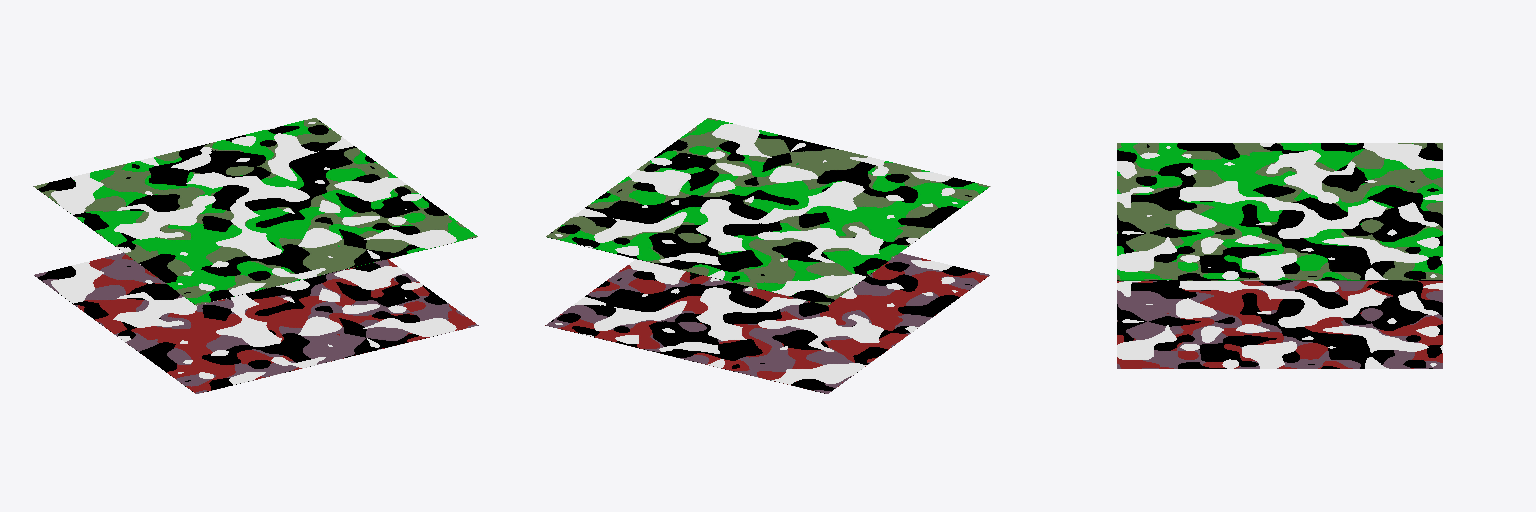
The picture shows the model from 3 angles: view 1: azimuth 30°, elevation 25°; view 2: azimuth 150°, elevation 25°; view 3: azimuth 270°, elevation 25°; orthographic projection.
Visible parts, largest first — view 1: Cube.001, Cube; view 2: Cube.001, Cube; view 3: Cube.001, Cube.
Boxes of the visible parts, box(x1,y1,x2,y2) form: Cube.001: box(33, 118, 477, 305); Cube: box(34, 253, 478, 393); Cube.001: box(546, 118, 990, 305); Cube: box(545, 253, 989, 393); Cube.001: box(1117, 143, 1442, 280); Cube: box(1117, 281, 1442, 368).
Bounding box in the file's own units: 20 × 6.02 × 20.
2 materials, 2 textured.